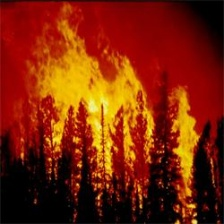fire: (30, 43, 204, 206)
